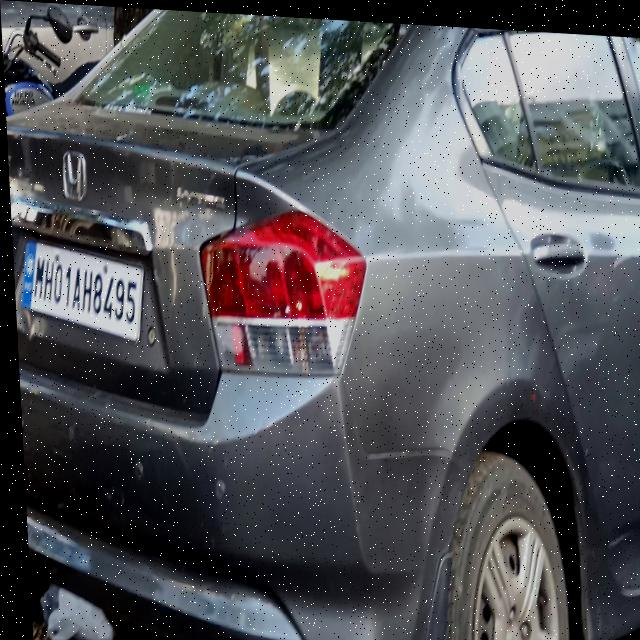plate: (14, 236, 144, 344)
